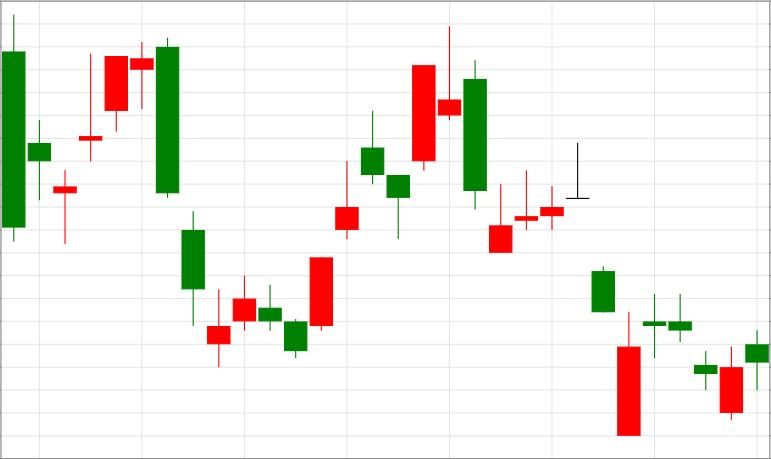bearish_engulfing_fall: (53, 37, 179, 244)
shooting_star_fall: (284, 111, 384, 359)
